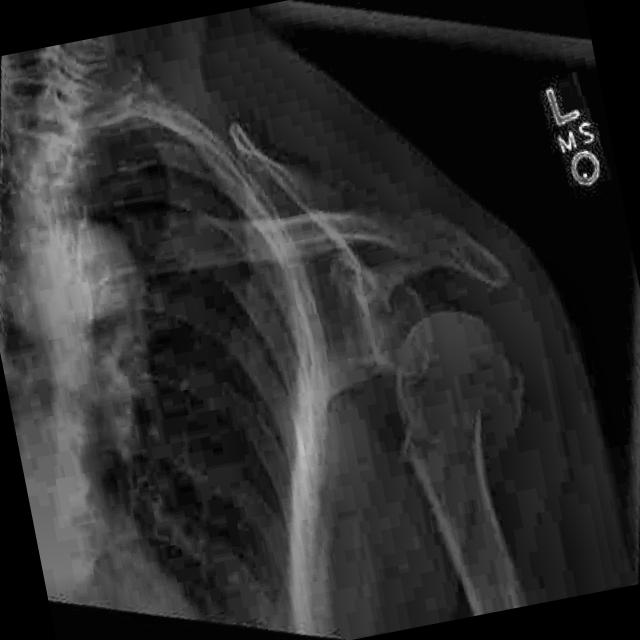shoulder fracture: (459, 367, 533, 482), (377, 397, 441, 493)
